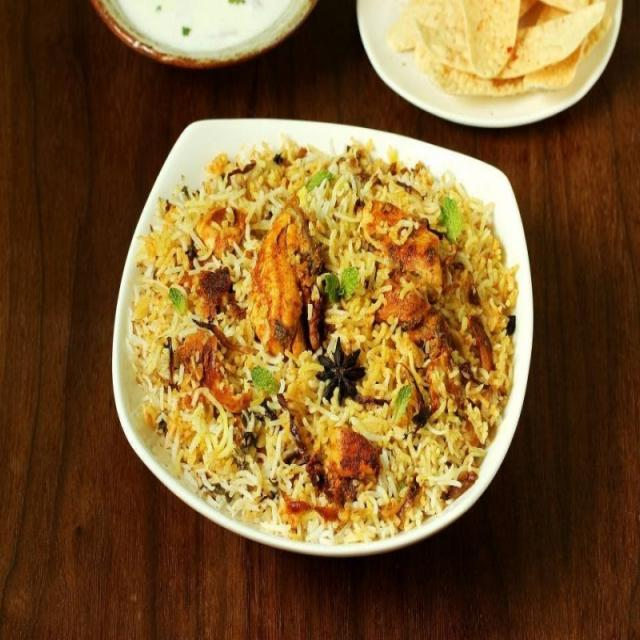Biryani: (98, 161, 514, 545)
